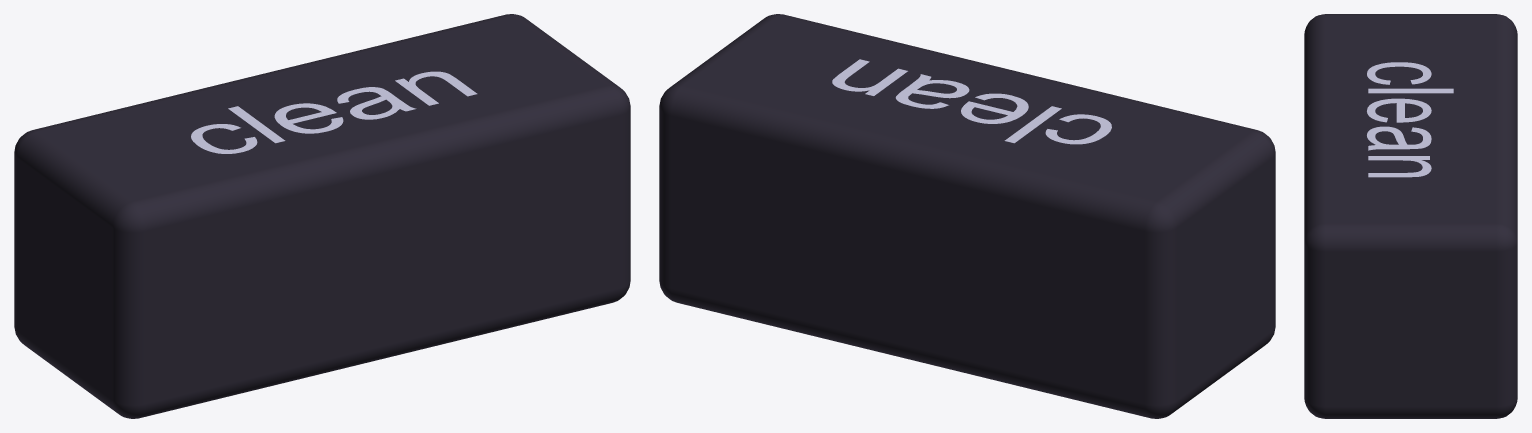
The model's file is clean.glb.
3 views of the same model, side by side, from view 1: azimuth 30°, elevation 25°; view 2: azimuth 150°, elevation 25°; view 3: azimuth 270°, elevation 25° (orthographic). The views are drawn at different scales.
Visible parts, largest first — view 1: Cut, Extrude; view 2: Cut, Extrude; view 3: Cut, Extrude.
Part boxes in pixels (x1=…): Cut: x1=14, y1=14, x2=630, y2=418; Extrude: x1=191, y1=71, x2=477, y2=153; Cut: x1=659, y1=14, x2=1275, y2=418; Extrude: x1=832, y1=59, x2=1111, y2=144; Cut: x1=1304, y1=14, x2=1517, y2=418; Extrude: x1=1367, y1=62, x2=1453, y2=177.
Bounding box in the file's own units: 5 × 2 × 2.
